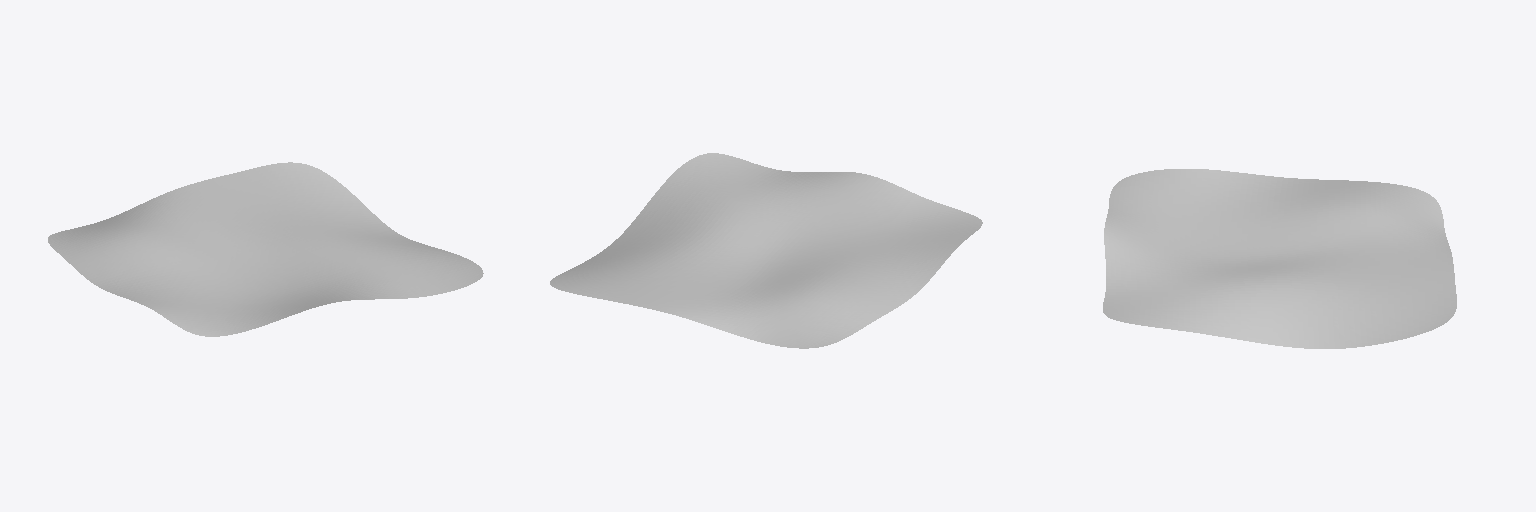
File: ground2.obj
3 renders of one model, left to right at view 1: azimuth 30°, elevation 25°; view 2: azimuth 150°, elevation 25°; view 3: azimuth 270°, elevation 25°, orthographic.
Visible parts, largest first — view 1: Plane.003; view 2: Plane.003; view 3: Plane.003.
Boxes of the visible parts, x1=… form: Plane.003: x1=48, y1=162, x2=483, y2=336; Plane.003: x1=550, y1=153, x2=982, y2=348; Plane.003: x1=1103, y1=169, x2=1456, y2=348.
Size of the model in its own units: 77.52 by 9.63 by 77.61.